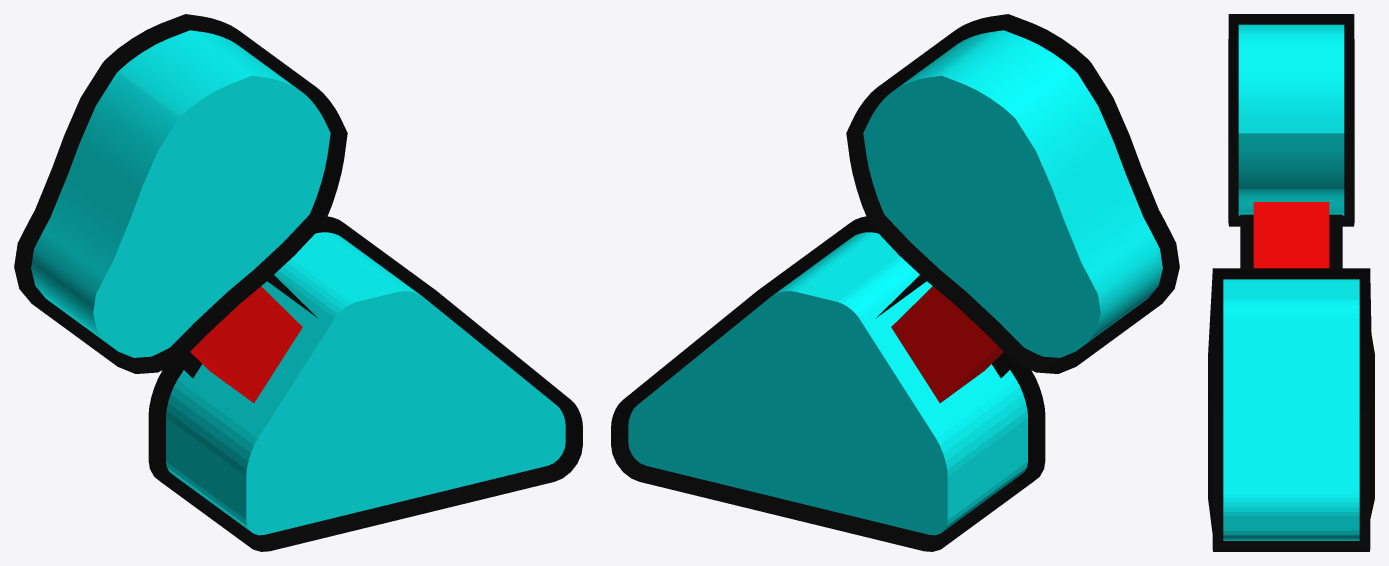
Rendered from leg.glb.
3 views of the same model, side by side, from view 1: azimuth 30°, elevation 25°; view 2: azimuth 150°, elevation 25°; view 3: azimuth 270°, elevation 25° (orthographic). The views are drawn at different scales.
Visible parts, largest first — view 1: Cube.003, Cube.004, Cube.002; view 2: Cube.003, Cube.004, Cube.002; view 3: Cube.003, Cube.004, Cube.002.
Part boxes in pixels (left/top/right/bottom): Cube.003: left=148, top=216, right=582, bottom=551; Cube.004: left=14, top=14, right=347, bottom=373; Cube.002: left=177, top=263, right=317, bottom=402; Cube.003: left=611, top=216, right=1045, bottom=551; Cube.004: left=846, top=14, right=1179, bottom=373; Cube.002: left=876, top=263, right=1016, bottom=402; Cube.003: left=1208, top=268, right=1374, bottom=551; Cube.004: left=1228, top=14, right=1354, bottom=226; Cube.002: left=1240, top=202, right=1342, bottom=268.
Size of the model in its own units: 1.26 by 1.18 by 0.44.
